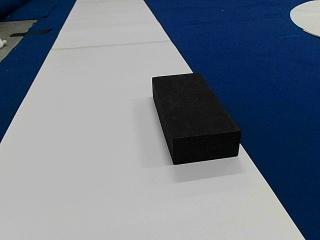block: (153, 73, 239, 164)
